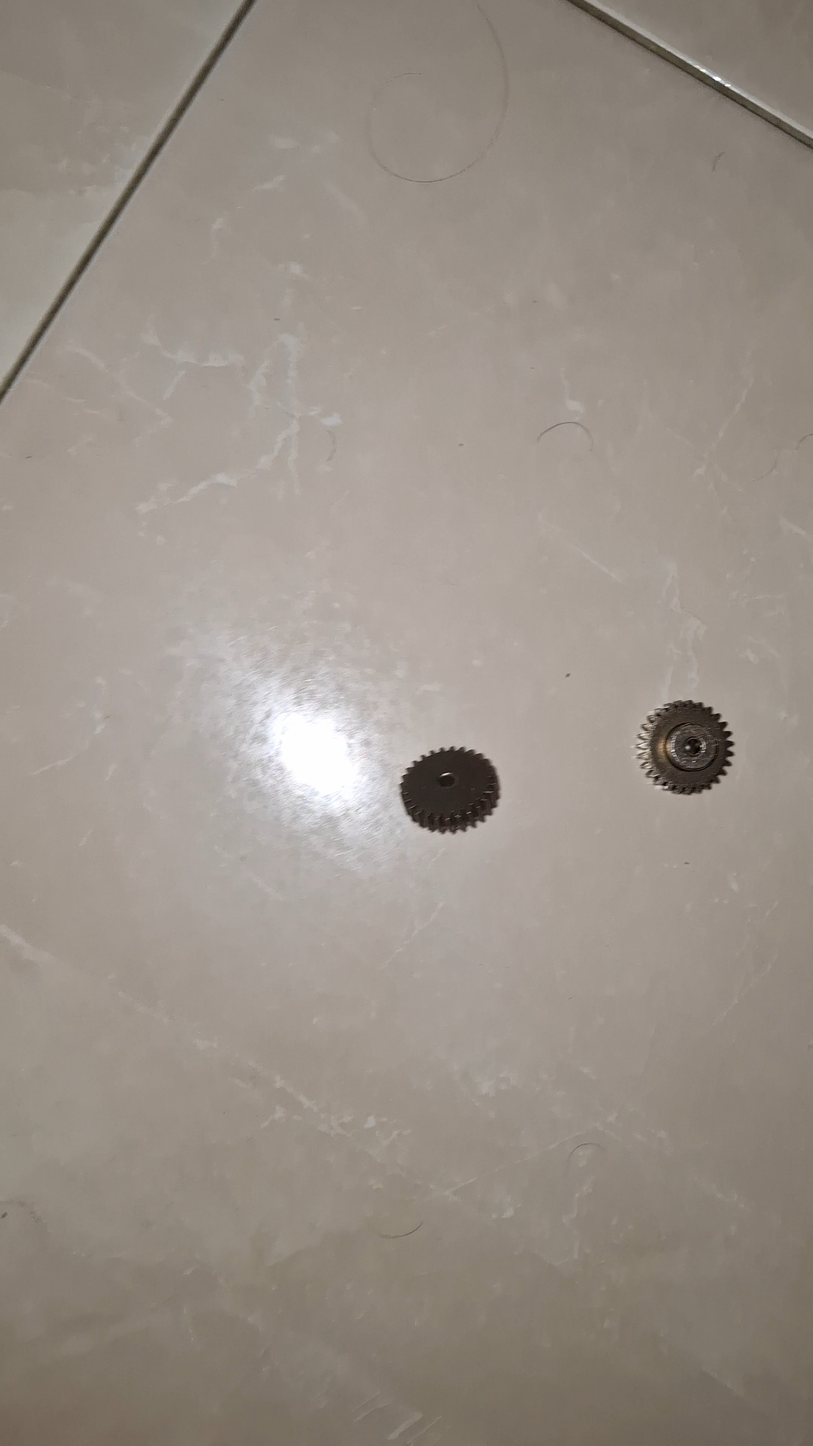spur gear: (636, 701, 732, 793), (400, 748, 499, 832)
